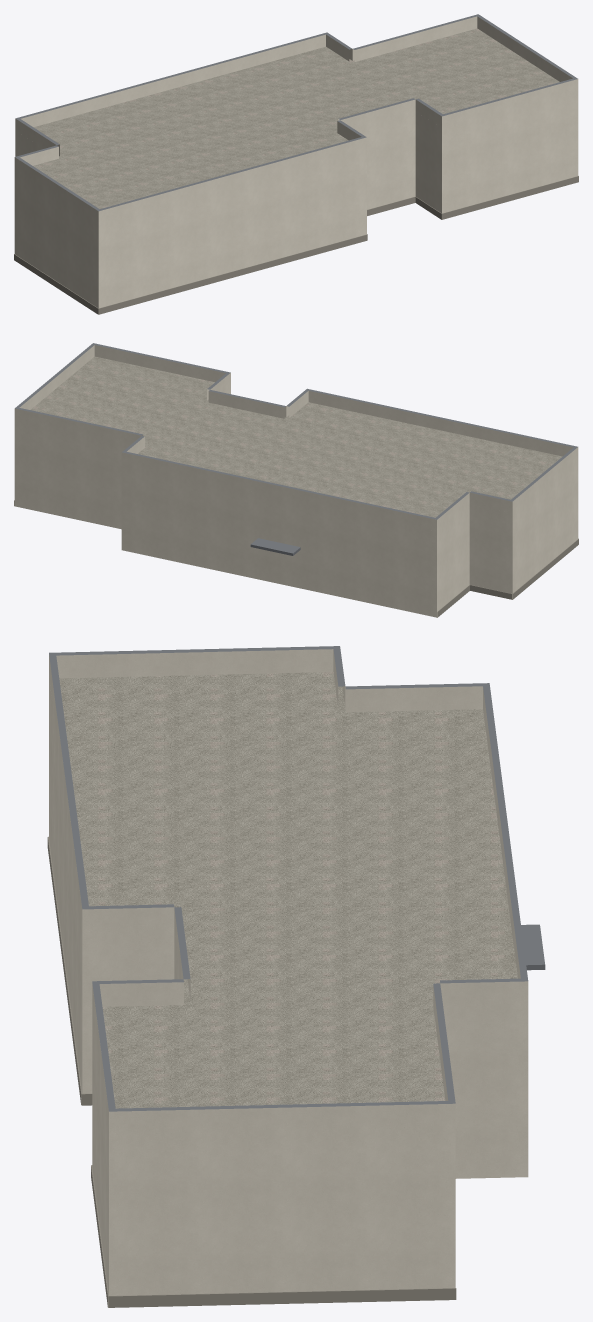
3 renders of one model, top to bottom at view 1: azimuth 30°, elevation 25°; view 2: azimuth 150°, elevation 25°; view 3: azimuth 270°, elevation 25°, orthographic. The views are drawn at different scales.
Parts seen in each view (by area): view 1: B-w719422967_lejos, B-w719422967_muros, B-w719422967_cubierta, B-w719422967_molduras; view 2: B-w719422967_lejos, B-w719422967_muros, B-w719422967_cubierta, B-w719422967_molduras, B-w719422967_remates; view 3: B-w719422967_lejos, B-w719422967_muros, B-w719422967_cubierta, B-w719422967_molduras, B-w719422967_remates.
Boxes of the visible parts, x1,y1,x2,y2 form: B-w719422967_lejos: (14, 28, 559, 313); B-w719422967_muros: (14, 49, 578, 294); B-w719422967_cubierta: (15, 14, 577, 211); B-w719422967_molduras: (14, 176, 578, 314); B-w719422967_lejos: (14, 356, 578, 617); B-w719422967_muros: (14, 373, 578, 592); B-w719422967_cubierta: (15, 343, 577, 519); B-w719422967_molduras: (14, 500, 578, 617); B-w719422967_remates: (250, 538, 300, 555); B-w719422967_lejos: (49, 672, 517, 1295); B-w719422967_muros: (49, 655, 528, 1300); B-w719422967_cubierta: (49, 646, 528, 1111); B-w719422967_molduras: (47, 836, 456, 1307); B-w719422967_remates: (521, 924, 545, 970).
Size of the model in its own units: 39.36 by 7.7 by 17.73.
Materials: 5 (2 with a texture image).
